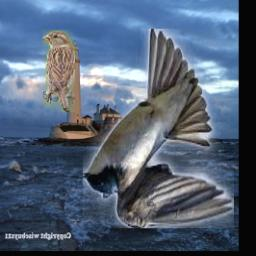Sparrow: (42, 31, 75, 113)
Swallow: (82, 30, 233, 229)
